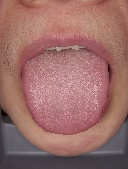tongue: (20, 59, 110, 136)
